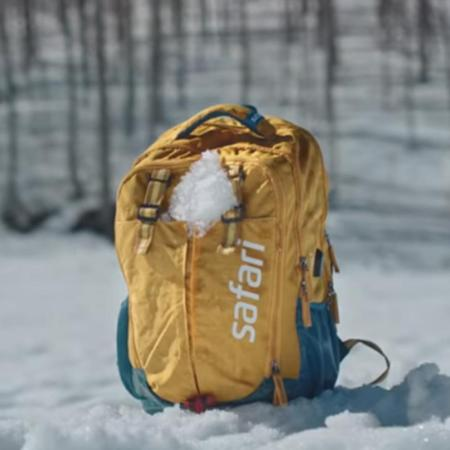backpack: (113, 102, 389, 415)
